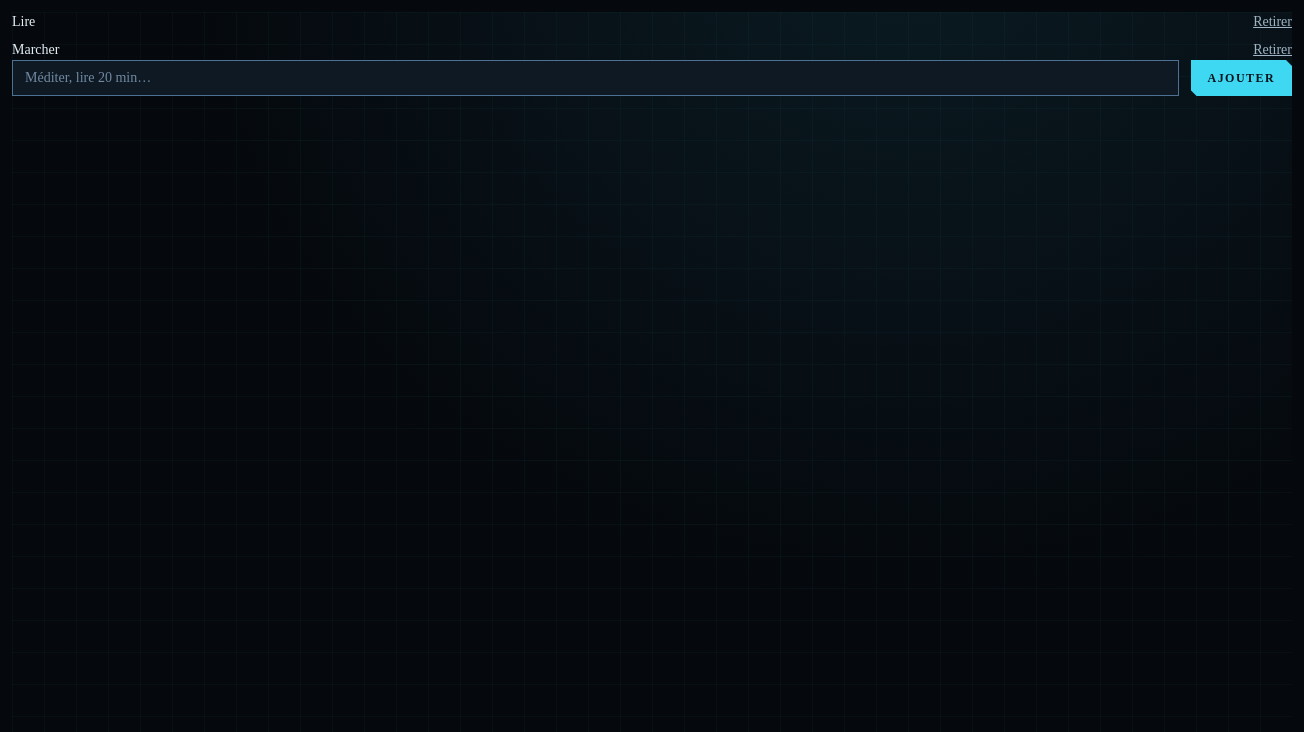
HabitsForms › un ajout après un retrait remplace « retirée » même avec un horodatage plus ancien
This screenshot has width=1304, height=732.
Click the button "Retirer" in the row of "Lire". click: point(1273, 22)
box: [1253,12,1292,32]
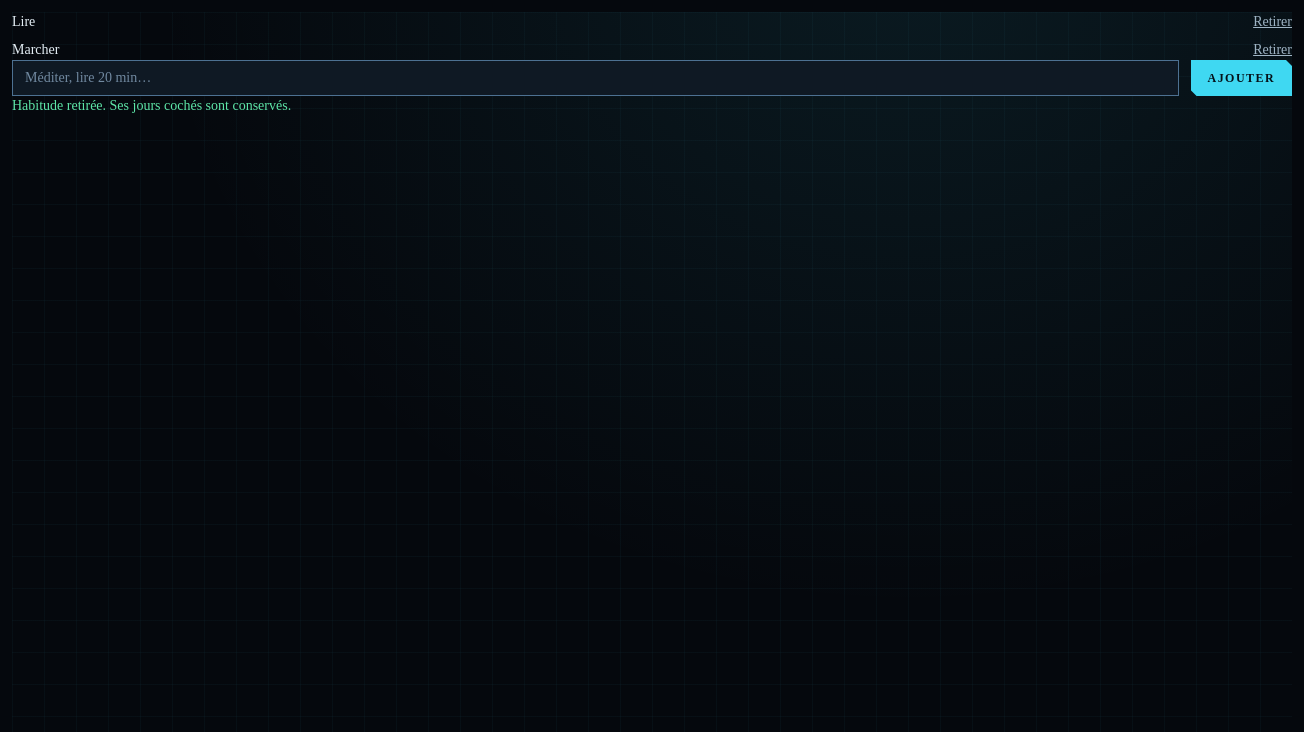
Expected: the text "Habitude retirée. Ses jours cochés sont conservés." is shown, [12,98,291,113]
Type "Lire" into the field named "Nouvelle habitude". click: point(595, 78)
box: [12,60,1179,96]
Then press Enter
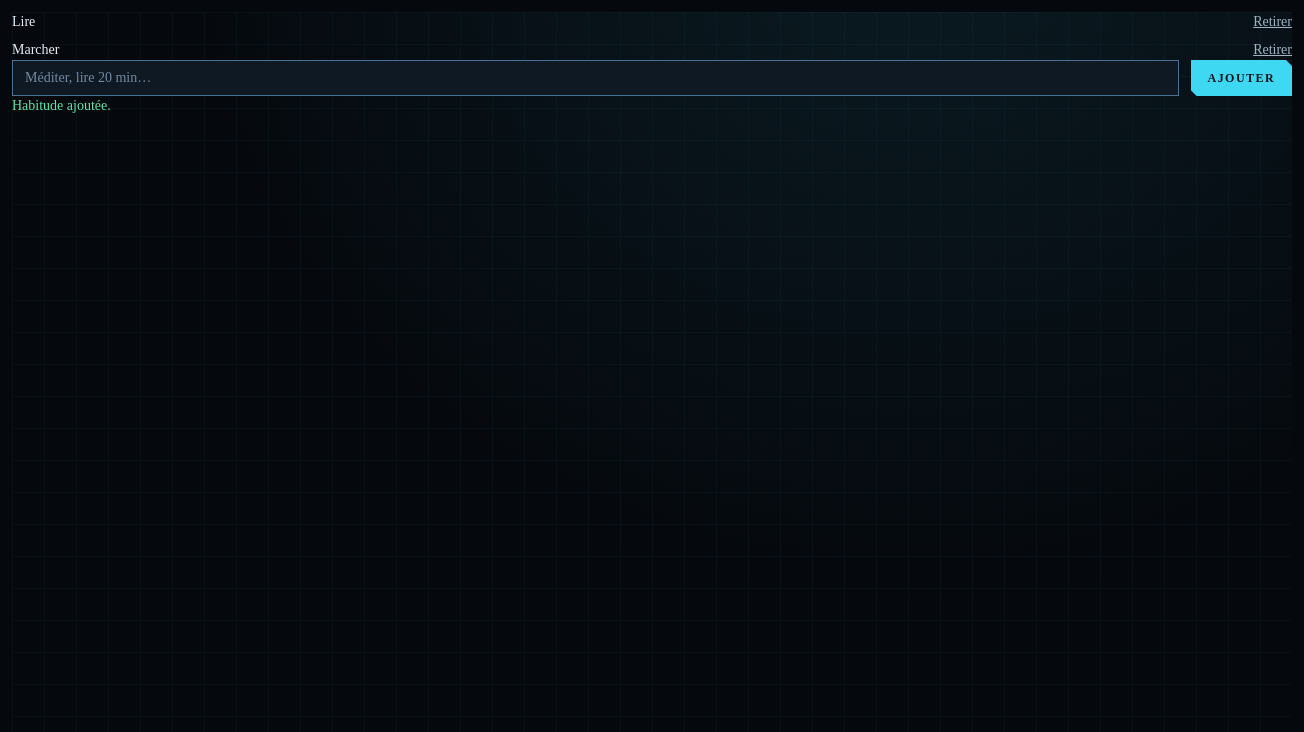
Expected: the text "Habitude ajoutée." is shown, [12,98,111,113]
Expected: the text "Habitude retirée" is gone
